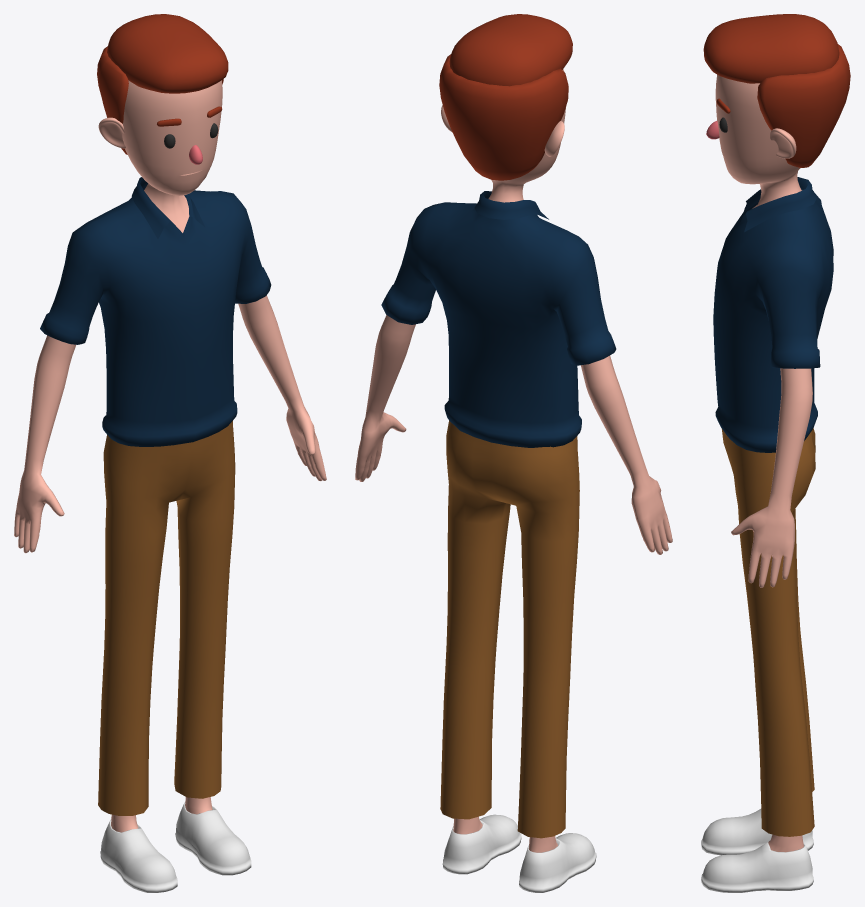
Rendered from Ninjero_exported.fbx.
3 views of the same model, side by side, from view 1: azimuth 30°, elevation 25°; view 2: azimuth 150°, elevation 25°; view 3: azimuth 270°, elevation 25° (orthographic).
Parts seen in each view (by area): view 1: Cube.007, Shirt_001, Sphere, Hair_001, Cube.009; view 2: Cube.007, Shirt_001, Hair_001, Sphere, Cube.009; view 3: Shirt_001, Cube.007, Hair_001, Sphere, Cube.009, Cube.001.
Boxes of the visible parts, x1,y1,x2,y2 form: Cube.007: (98, 421, 235, 815); Shirt_001: (40, 177, 271, 446); Sphere: (14, 80, 326, 832); Hair_001: (97, 14, 228, 154); Cube.009: (100, 802, 251, 892); Cube.007: (440, 420, 579, 838); Shirt_001: (381, 191, 616, 447); Hair_001: (439, 14, 572, 180); Sphere: (355, 69, 672, 852); Cube.009: (442, 814, 596, 892); Shirt_001: (713, 177, 833, 452); Cube.007: (721, 428, 815, 836); Hair_001: (703, 14, 850, 167); Sphere: (715, 74, 812, 852); Cube.009: (701, 808, 813, 892); Cube.001: (770, 128, 796, 158).
Size of the model in its own units: 145 by 384 by 61.74.
